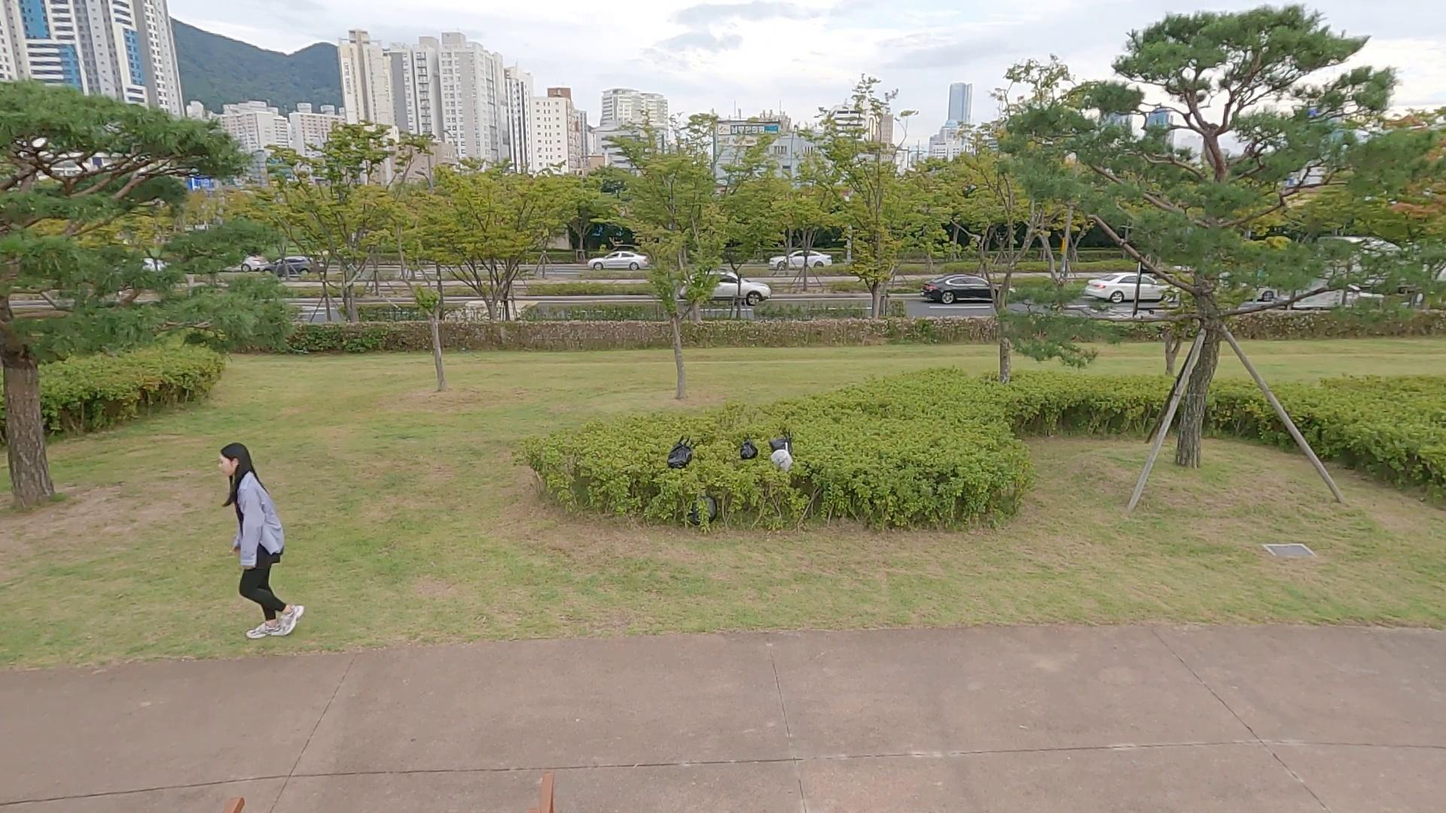person: (214, 435, 306, 644)
trash: (688, 496, 718, 527), (667, 434, 694, 468), (768, 443, 794, 471), (767, 429, 793, 455), (740, 435, 760, 460)
